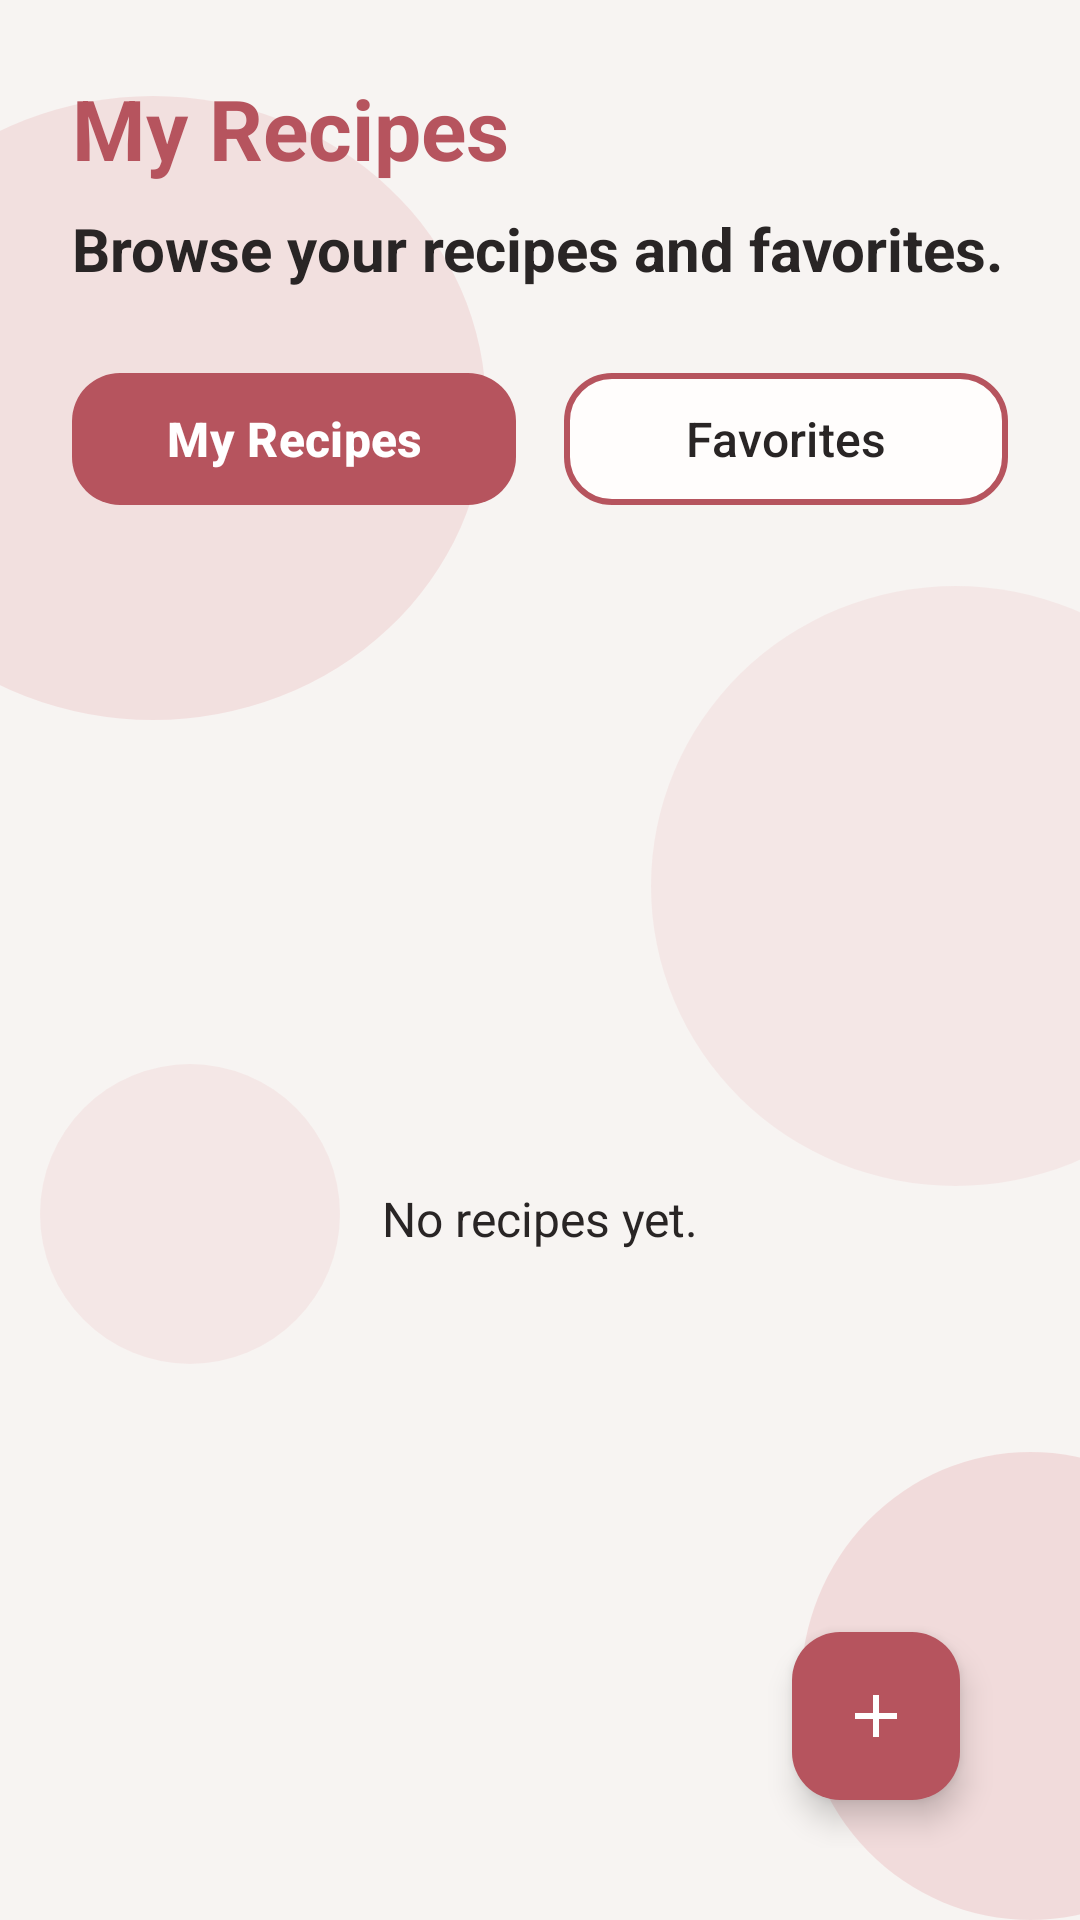

Where icons sit on this 1080w x 1920h app screen, as [x1=x1, y1=y1, x2=x2, y2=y2]:
Create Recipe: [x1=792, y1=1632, x2=960, y2=1800]
